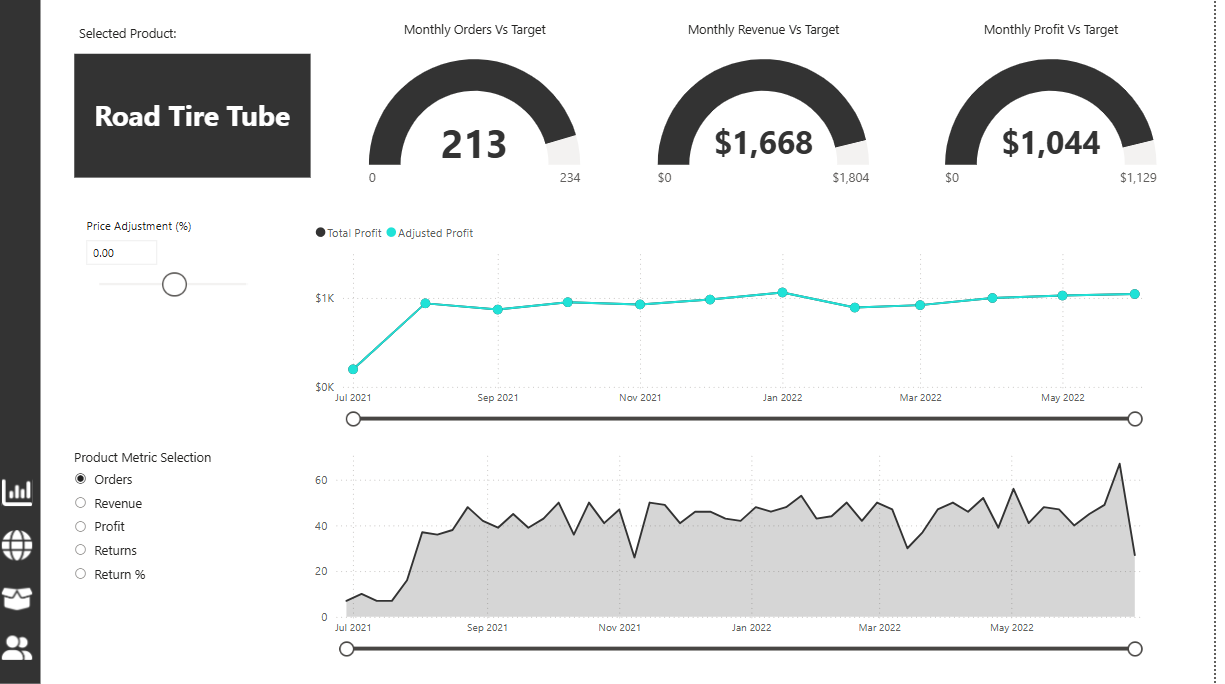

The dashboard page shown, as its layout file describes it:
{"tool":"powerbi","page":{"name":"Product Detail","canvas":[1280,720],"ordinal":2},"visuals":[{"type":"shape","box":[0,0,44.7,719.7],"z":0},{"type":"gauge","title":"Monthly Orders Vs Target","fields":{"Y":["Measure Table.Total Orders"],"MaxValue":["Measure Table.Order Target"]},"box":[385.6,21.1,232.6,204],"z":1000},{"type":"actionButton","box":[0,498.8,45,40],"z":1000,"group":"g1"},{"type":"gauge","title":"Monthly Revenue Vs Target","fields":{"Y":["Measure Table.Total Revenue"],"MaxValue":["Measure Table.Revenue Target"]},"box":[689.2,21.1,232.6,204],"z":2000},{"type":"actionButton","box":[0,553.8,45,40],"z":2000,"group":"g1"},{"type":"gauge","title":"Monthly Profit Vs Target","fields":{"Y":["Measure Table.Total Profit"],"MaxValue":["Measure Table.Profit Target"]},"box":[992.7,21.1,232.6,204],"z":3000},{"type":"actionButton","box":[0,610,45,40],"z":3000,"group":"g1"},{"type":"lineChart","title":"Profit Trending","fields":{"Category":["Calendar Lookup.Date Hierarchy.Start of Year","Calendar Lookup.Date Hierarchy.Start of Month","Calendar Lookup.Date Hierarchy.Start of Week","Calendar Lookup.Date Hierarchy.Date"],"Y":["Measure Table.Total Profit","Measure Table.Adjusted Profit"]},"box":[328.4,225.2,896.9,226.4],"z":4000},{"type":"actionButton","box":[0,662.6,45,40],"z":4000,"group":"g1"},{"type":"areaChart","title":"Returns Trending","fields":{"Y":["Measure Table.Total Orders"],"Category":["Calendar Lookup.Date Hierarchy.Start of Year","Calendar Lookup.Date Hierarchy.Start of Month","Calendar Lookup.Date Hierarchy.Start of Week","Calendar Lookup.Date Hierarchy.Date"]},"box":[328.4,467.7,896.9,226.4],"z":5000},{"type":"card","fields":{"Values":["Min(Product Lookup.ProductName)"]},"box":[79.6,56,248.8,130.6],"z":6000},{"type":"textbox","box":[79.6,21.1,129.4,36.1],"z":7000},{"type":"group","id":"g1","title":"Navigation Buttons","box":[0,498.8,45,203.8],"z":8000},{"type":"slicer","fields":{"Values":["Price Adjustment (%).Price Adjustment (%)"]},"box":[79.6,225.2,204,145.5],"z":9000},{"type":"slicer","fields":{"Values":["Product Metric Selection.Product Metric Selection"]},"box":[67.2,467.7,237.6,226.4],"z":10000}]}

Visuals, with their boxes on the page's 1280x720 design canvas (x1, y1, x2, y2). These are canvas units, not pixel positions in the 1225x684 screenshot, which may show the page scaled, cropped or inside an application window:
shape: x1=0, y1=0, x2=45, y2=720
"Monthly Orders Vs Target" gauge: x1=386, y1=21, x2=618, y2=225
actionButton: x1=0, y1=499, x2=45, y2=539
"Monthly Revenue Vs Target" gauge: x1=689, y1=21, x2=922, y2=225
actionButton: x1=0, y1=554, x2=45, y2=594
"Monthly Profit Vs Target" gauge: x1=993, y1=21, x2=1225, y2=225
actionButton: x1=0, y1=610, x2=45, y2=650
"Profit Trending" lineChart: x1=328, y1=225, x2=1225, y2=452
actionButton: x1=0, y1=663, x2=45, y2=703
"Returns Trending" areaChart: x1=328, y1=468, x2=1225, y2=694
card - Min(Product Lookup.ProductName): x1=80, y1=56, x2=328, y2=187
textbox: x1=80, y1=21, x2=209, y2=57
"Navigation Buttons" group: x1=0, y1=499, x2=45, y2=703
slicer - Price Adjustment (%).Price Adjustment (%): x1=80, y1=225, x2=284, y2=371
slicer - Product Metric Selection.Product Metric Selection: x1=67, y1=468, x2=305, y2=694
